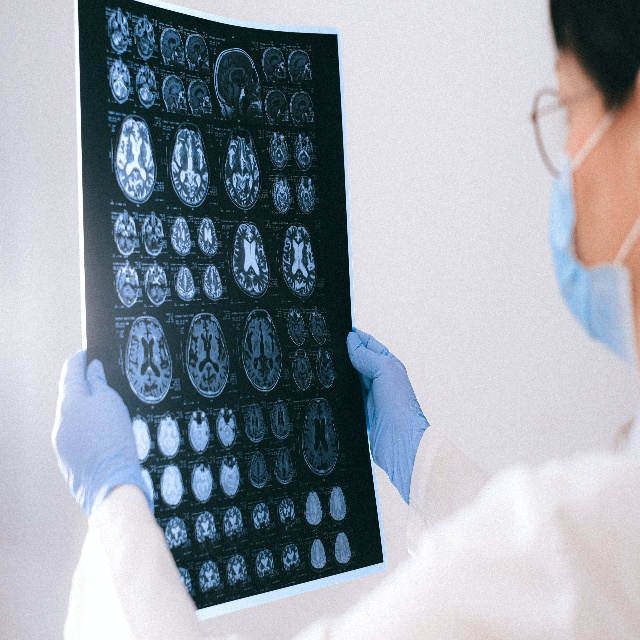Gafas: (530, 86, 603, 173)
Guantes: (56, 357, 154, 515), (345, 328, 430, 504)
Mascara: (551, 104, 640, 361)
